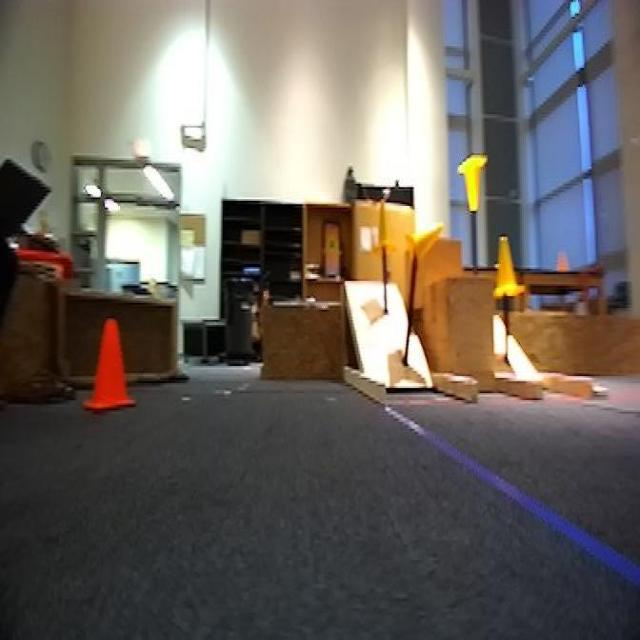frc_cone: (491, 235, 526, 296), (456, 152, 487, 214), (405, 222, 445, 268), (372, 198, 398, 254)
